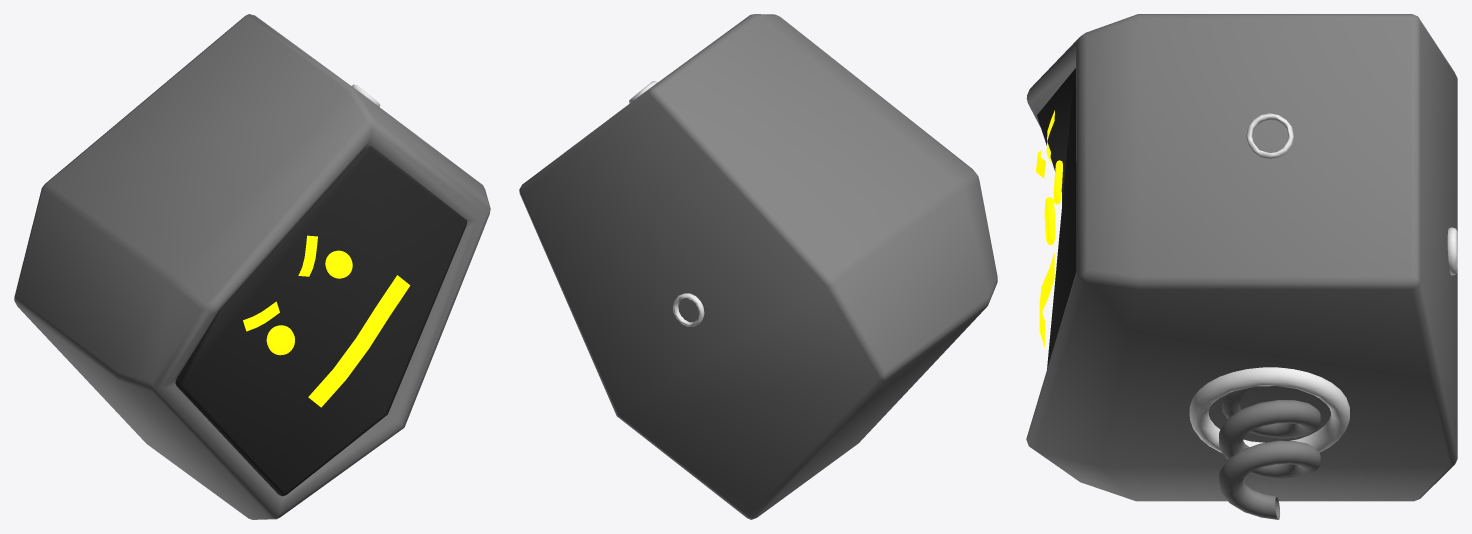
File: stage 1 - hand throw - idle.fbx
3 views of the same model, side by side, from view 1: azimuth 30°, elevation 25°; view 2: azimuth 150°, elevation 25°; view 3: azimuth 270°, elevation 25° (orthographic). The views are drawn at different scales.
Parts seen in each view (by area): view 1: Cube.031, Cube.032, Plane.003, Circle.029, Circle.028; view 2: Cube.031; view 3: Cube.031, Circle.027, Cube.032, Torus.080, Torus.074, Plane.003.
Part boxes in pixels (left/top/right/bottom): Cube.031: left=14, top=14, right=490, bottom=519; Cube.032: left=175, top=145, right=467, bottom=496; Plane.003: left=308, top=275, right=410, bottom=407; Circle.029: left=266, top=325, right=294, bottom=355; Circle.028: left=325, top=250, right=352, bottom=278; Cube.031: left=519, top=14, right=997, bottom=519; Cube.031: left=1026, top=14, right=1457, bottom=501; Circle.027: left=1219, top=387, right=1320, bottom=519; Cube.032: left=1037, top=68, right=1076, bottom=368; Torus.080: left=1189, top=367, right=1349, bottom=453; Torus.074: left=1246, top=113, right=1293, bottom=158; Plane.003: left=1039, top=252, right=1054, bottom=347.
Bounding box in the file's own units: 170 × 180 × 128.
